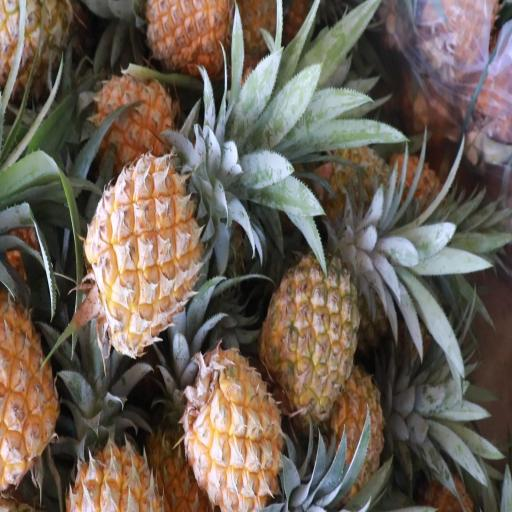------------------------------: (264, 262, 356, 421)
Pineapple - v8 v1: (88, 155, 200, 346), (183, 344, 281, 508), (62, 375, 160, 512), (0, 299, 56, 480), (92, 77, 178, 163), (148, 0, 230, 70)
